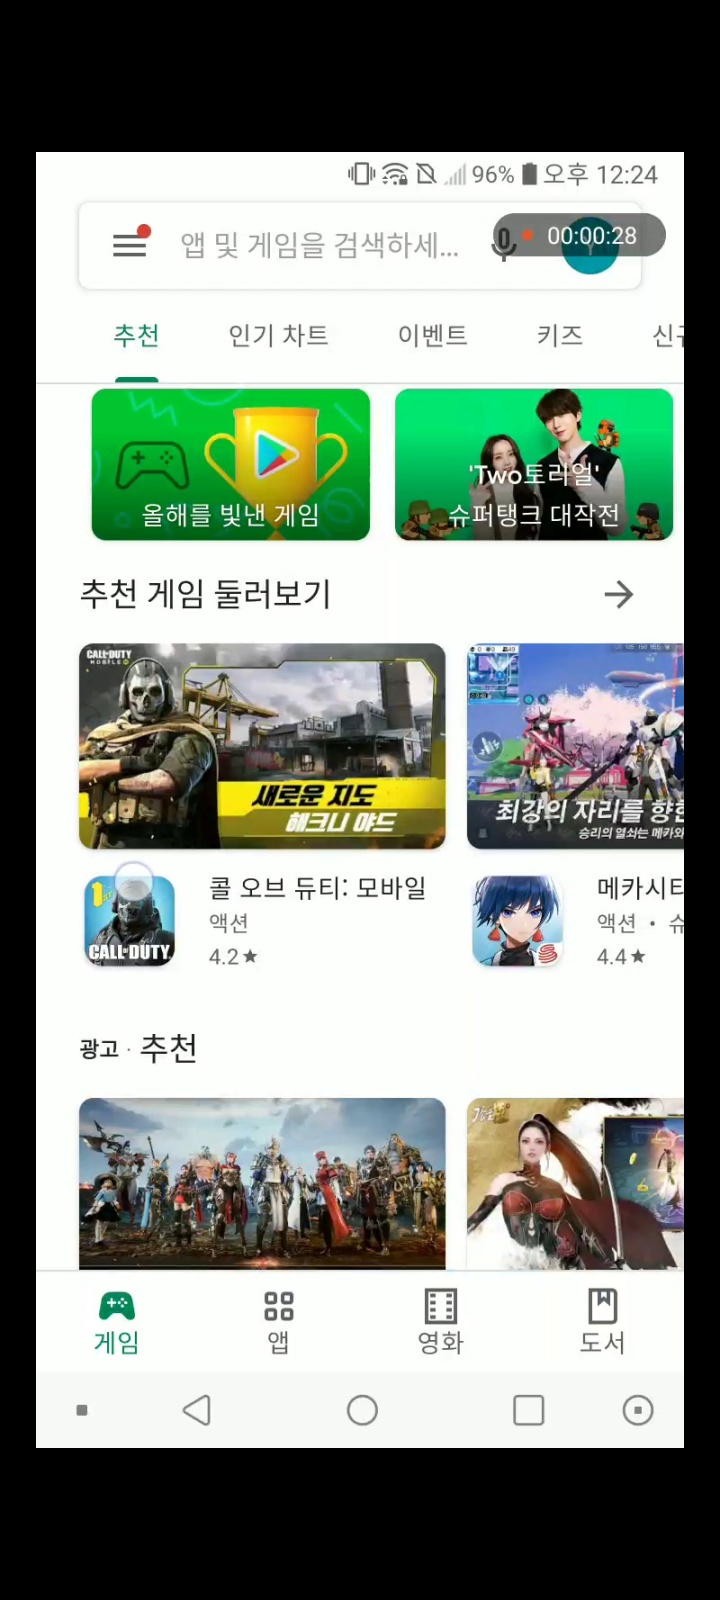Cursor: (113, 860, 158, 905)
